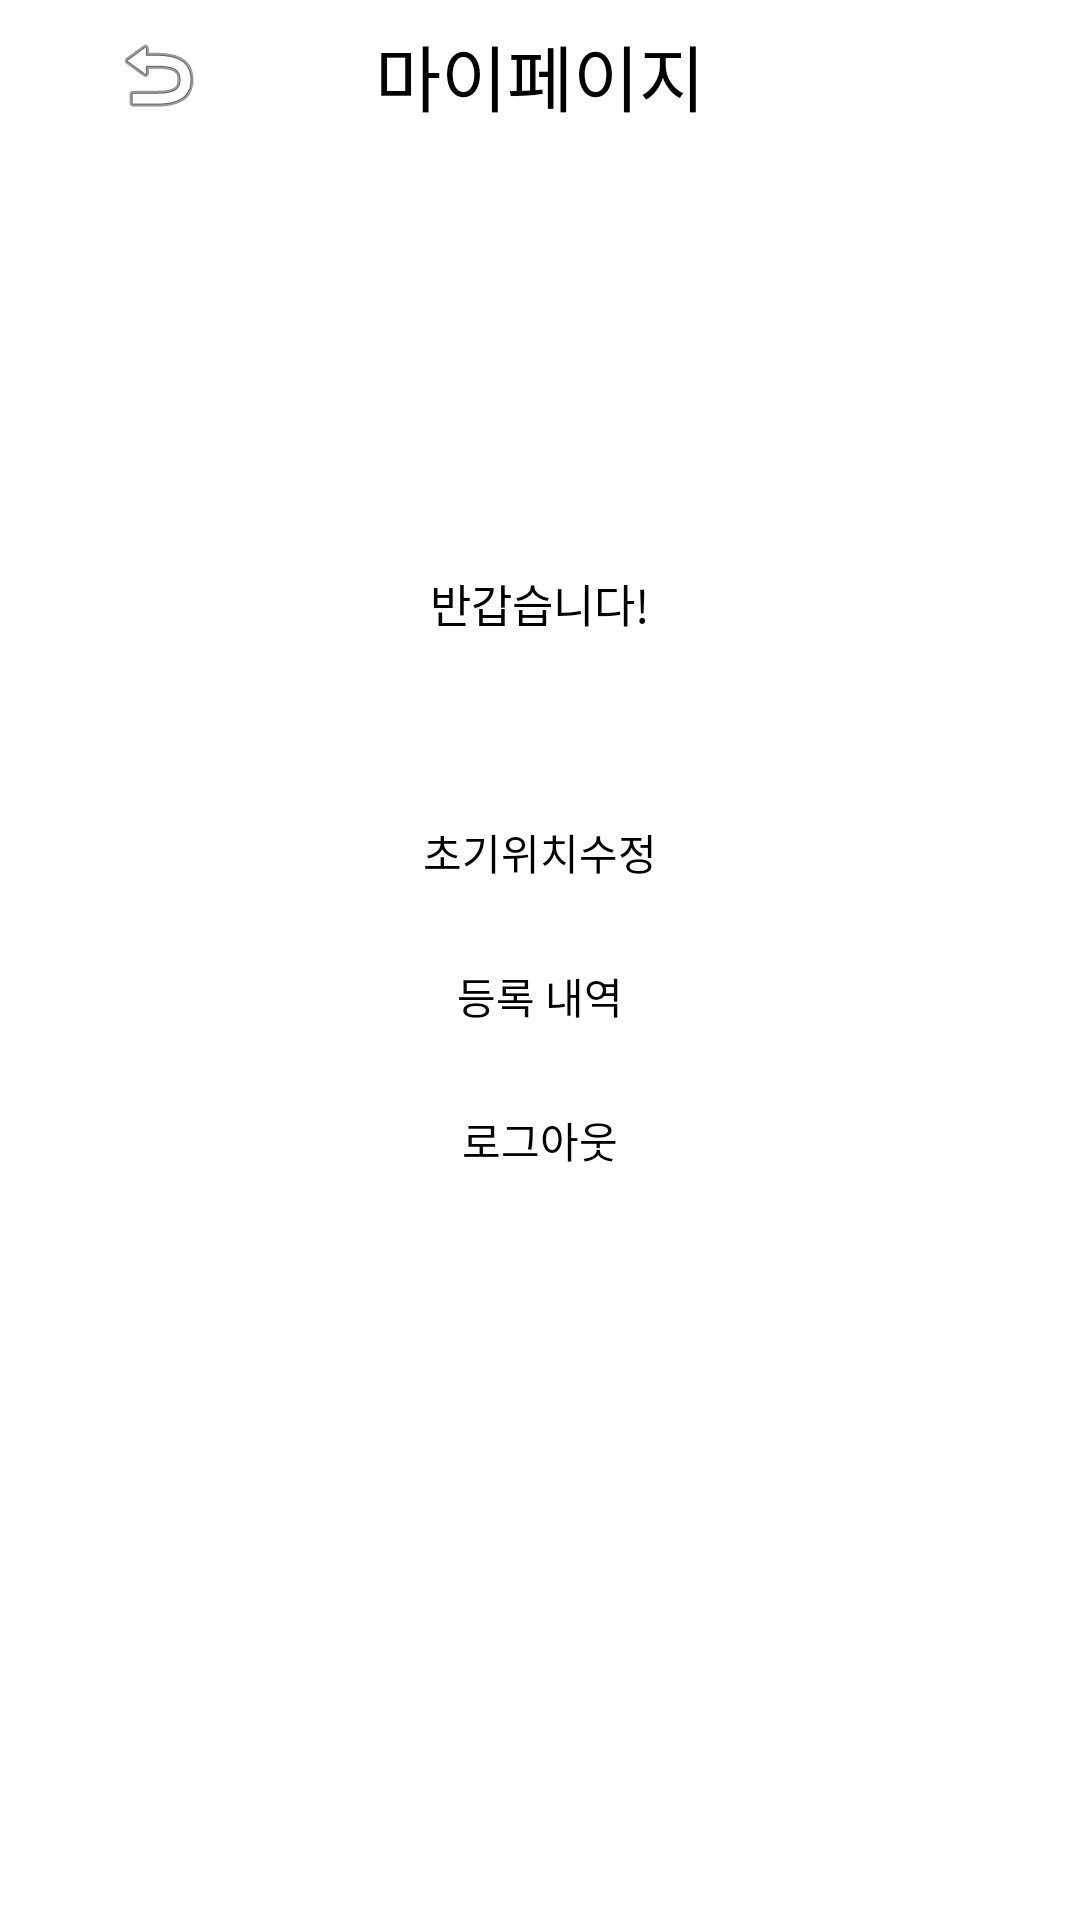

Icons on this 1080 × 1920 Android screen, each with the point to tap as [x,y]:
revert: [159,75]
